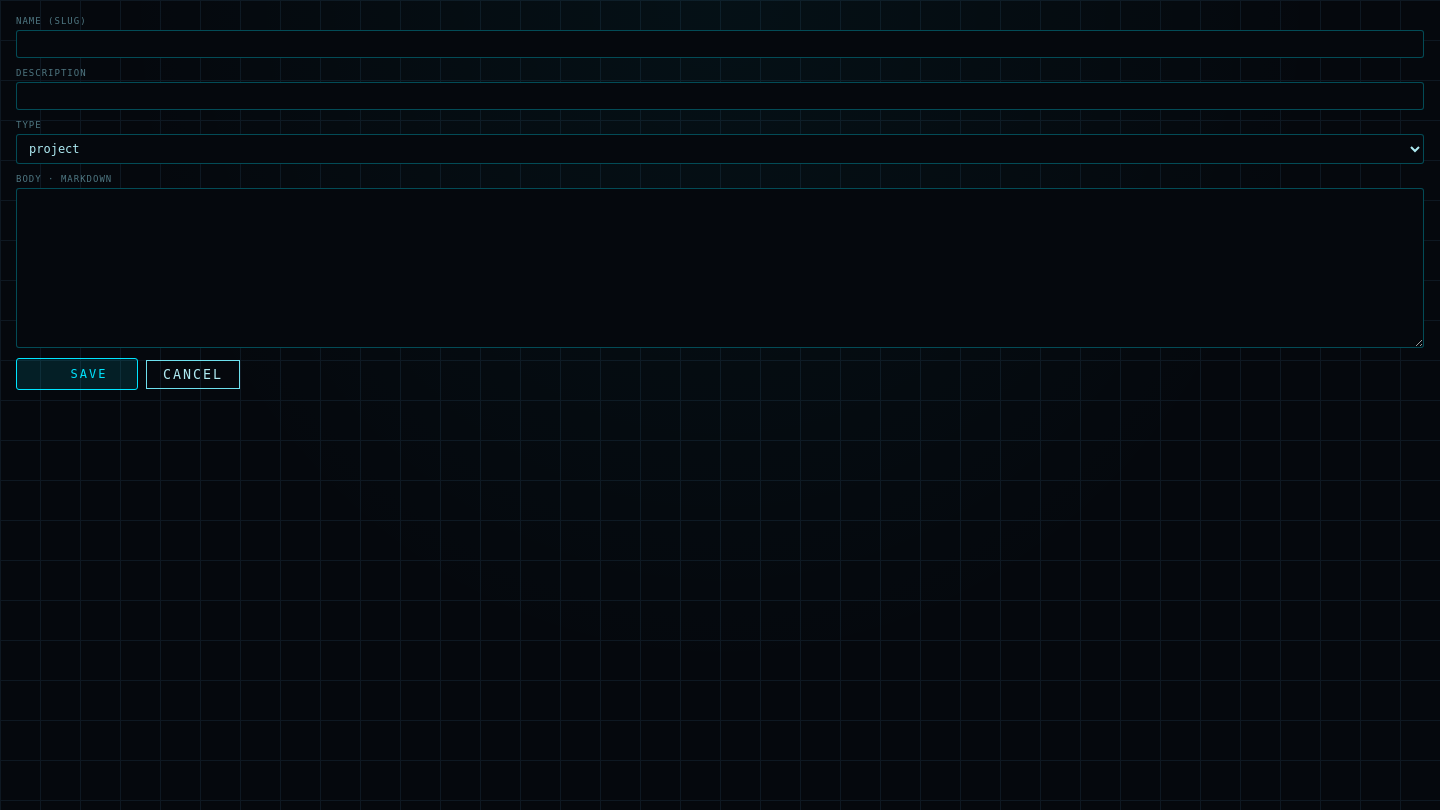
Test: MemoryEditor › in create mode requires a valid kebab name
In the field with test id "editor-name": (720,44) [16,30,1424,58], type "Bad Name"
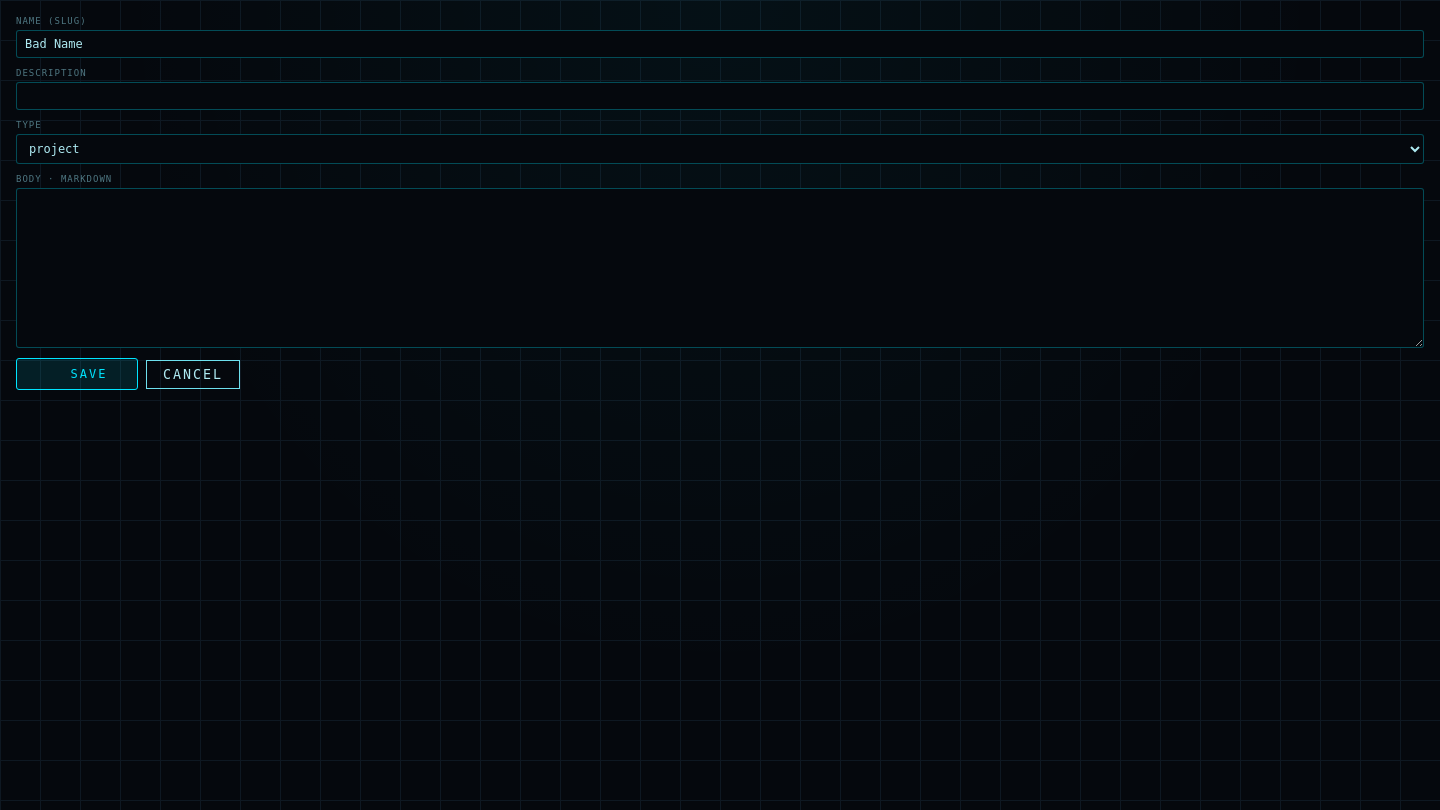
Click the button with test id "editor-save": (77,374) [16,358,138,390]
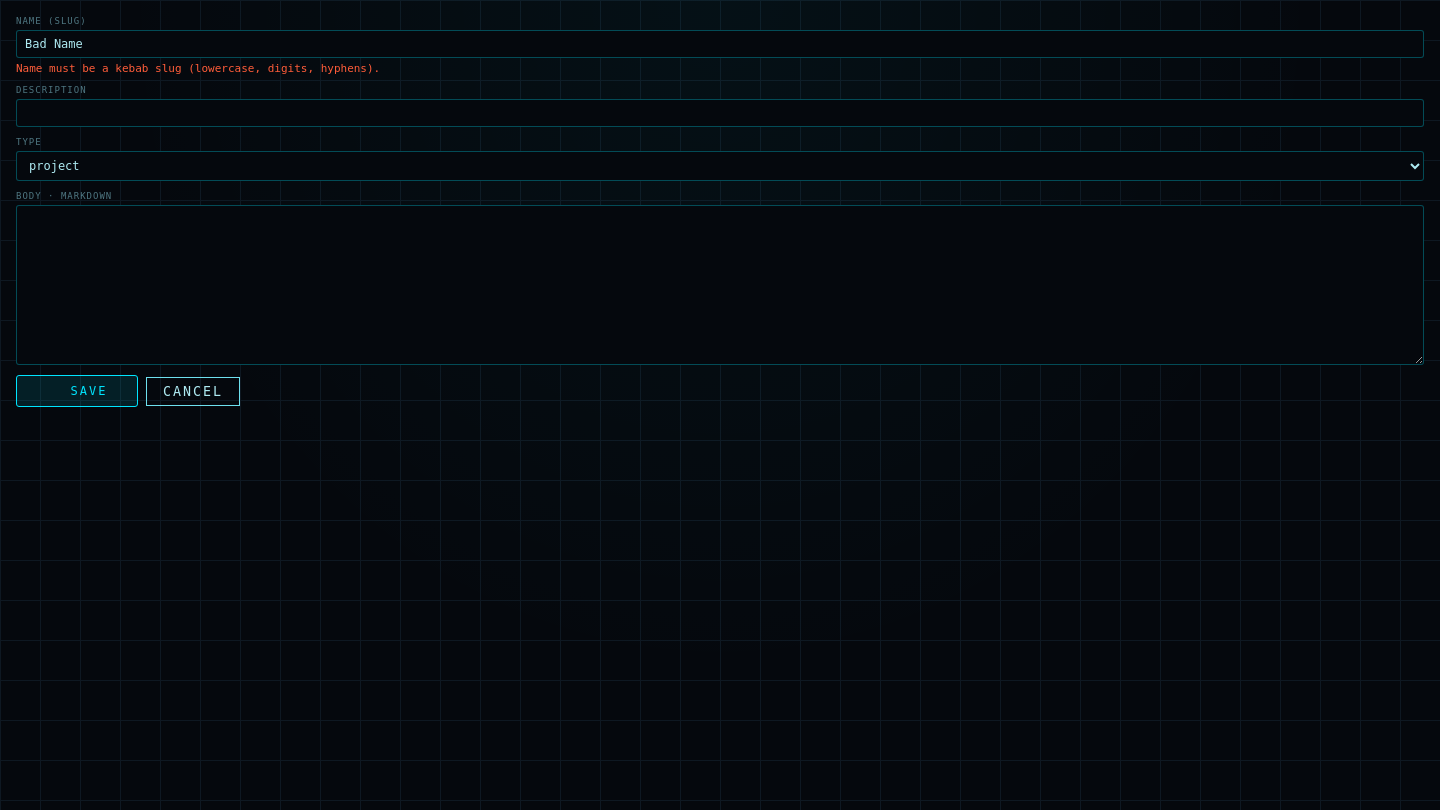
Check: the text "Name must be a kebab slug (lowercase, digits, hyphens)." is shown, box [16,62,380,75]
